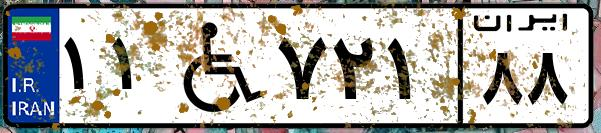1: (385, 28, 445, 110), (57, 26, 110, 100), (110, 28, 158, 98)
2: (330, 28, 385, 110)
7: (270, 28, 330, 110)
8: (475, 38, 525, 113), (525, 38, 570, 115)
ژ (معلولین و جانبازان): (158, 12, 270, 120)
